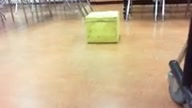cube: (84, 11, 119, 44)
